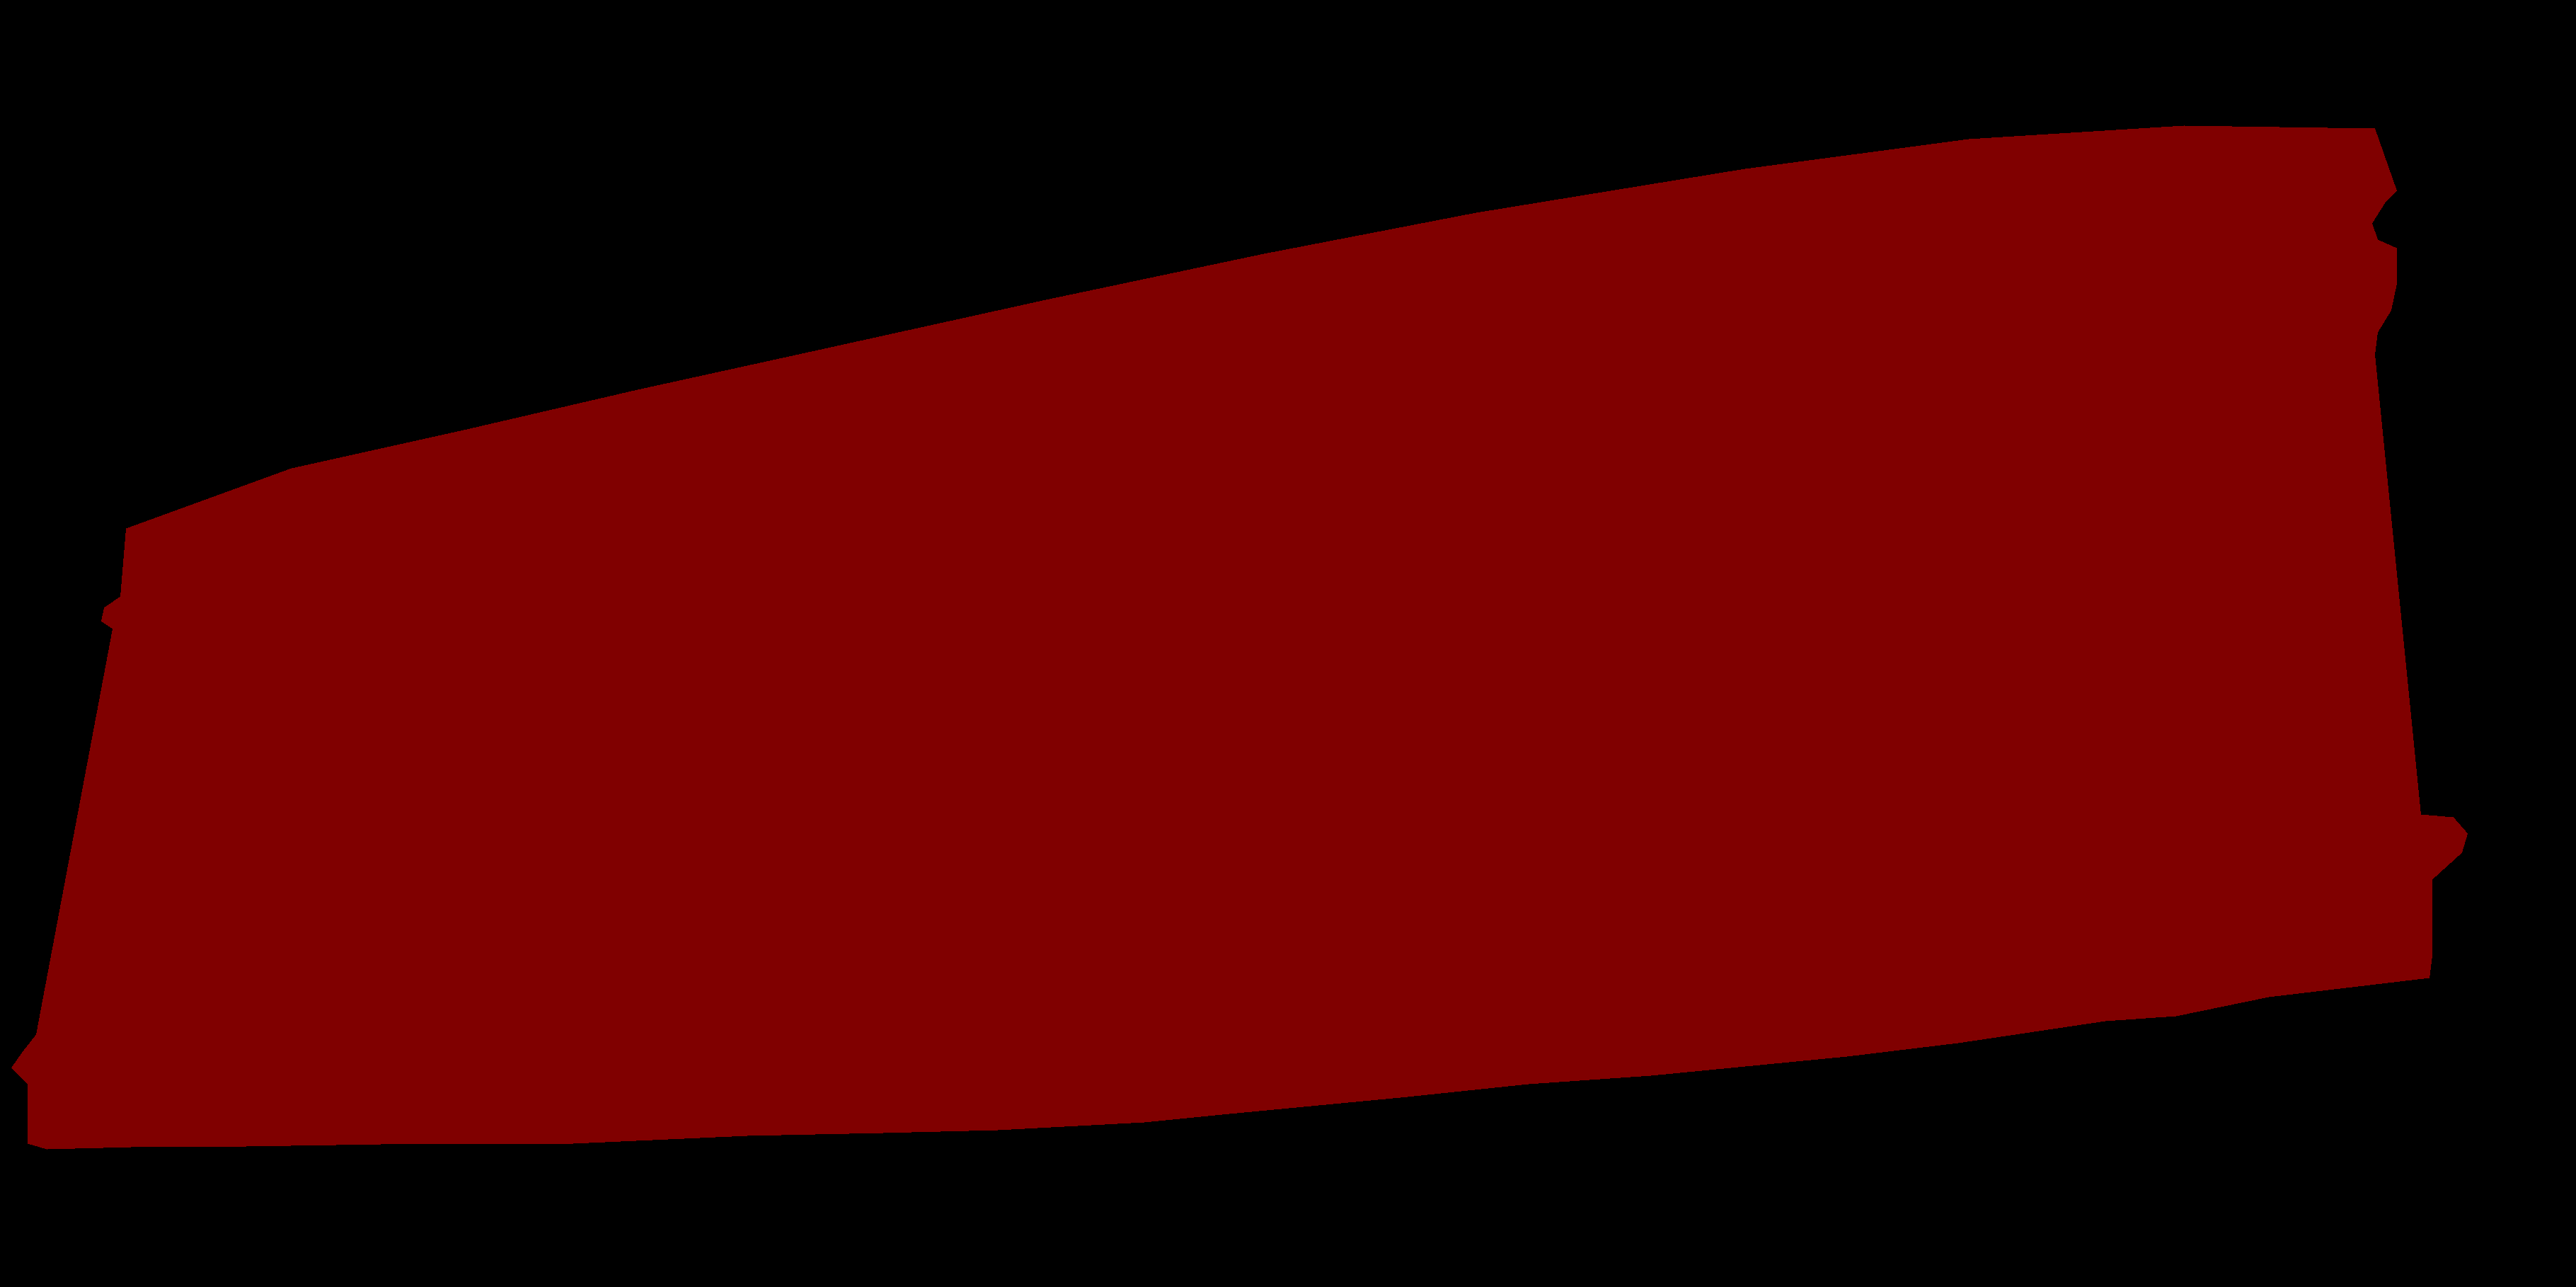sign: (11, 125, 2468, 1149)
